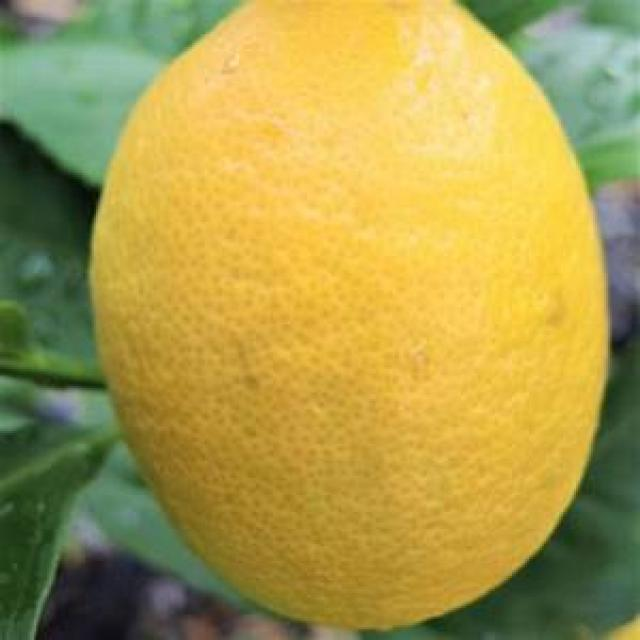Lemon: (93, 2, 612, 631)
